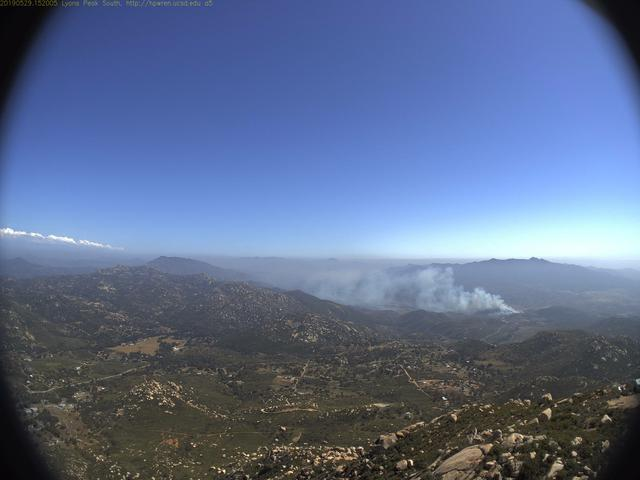smoke: (274, 253, 523, 318)
